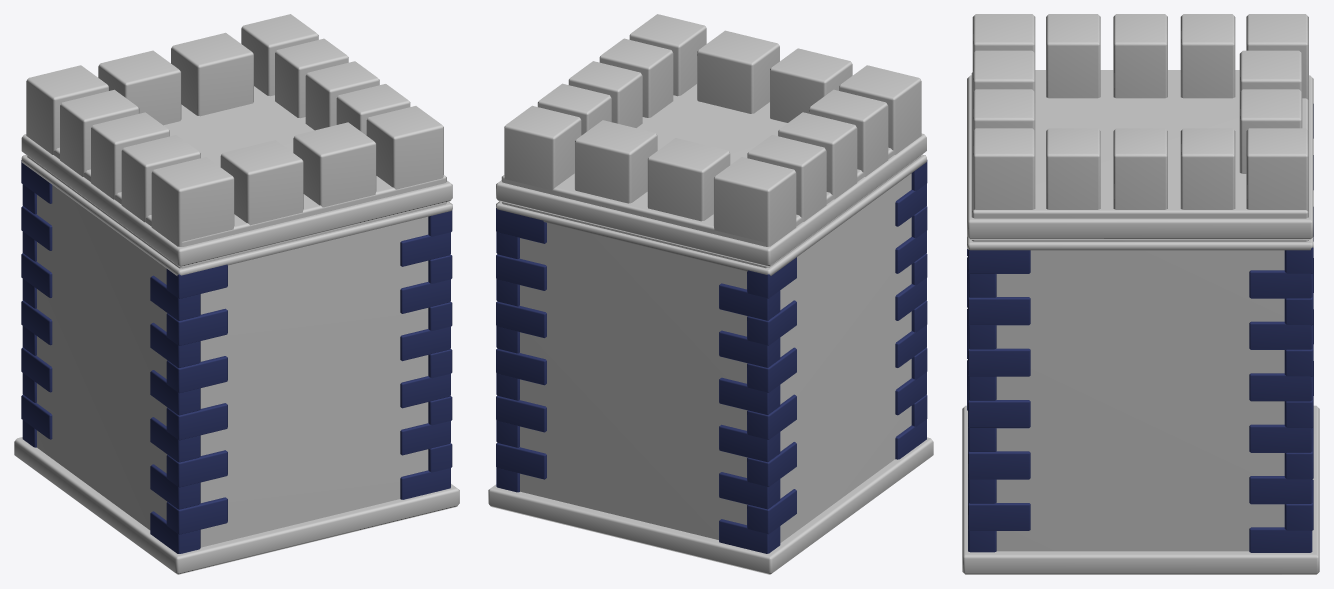
The model's file is standard_peice.fbx.
The picture shows the model from 3 angles, left to right: view 1: azimuth 30°, elevation 25°; view 2: azimuth 150°, elevation 25°; view 3: azimuth 270°, elevation 25°; orthographic projection. The views are drawn at different scales.
Visible parts, largest first — view 1: standard_piece; view 2: standard_piece; view 3: standard_piece.
Boxes of the visible parts, x1,y1,x2,y2 form: standard_piece: (14, 14, 459, 574); standard_piece: (488, 14, 933, 574); standard_piece: (962, 14, 1319, 574).
Bounding box in the file's own units: 416 × 532 × 414.
